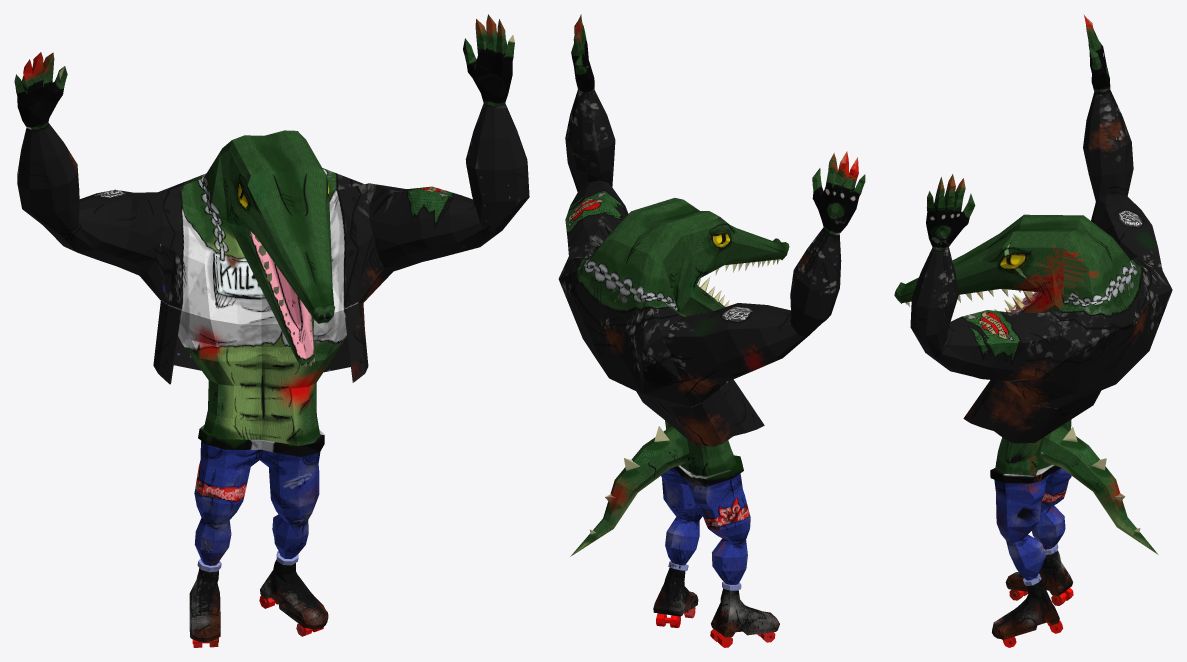
File: cocodrilaBonesSelect_000041.obj
3 views of the same model, side by side, from view 1: azimuth 30°, elevation 25°; view 2: azimuth 150°, elevation 25°; view 3: azimuth 270°, elevation 25° (orthographic). The views are drawn at different scales.
Visible parts, largest first — view 1: Crocodile.002_Cylinder.002; view 2: Crocodile.002_Cylinder.002; view 3: Crocodile.002_Cylinder.002.
Part boxes in pixels (x1,y1,x2,y2): Crocodile.002_Cylinder.002: [14, 14, 529, 647]; Crocodile.002_Cylinder.002: [558, 14, 865, 647]; Crocodile.002_Cylinder.002: [894, 14, 1172, 647].
Bounding box in the file's own units: 6.1 × 8.4 × 3.98.
